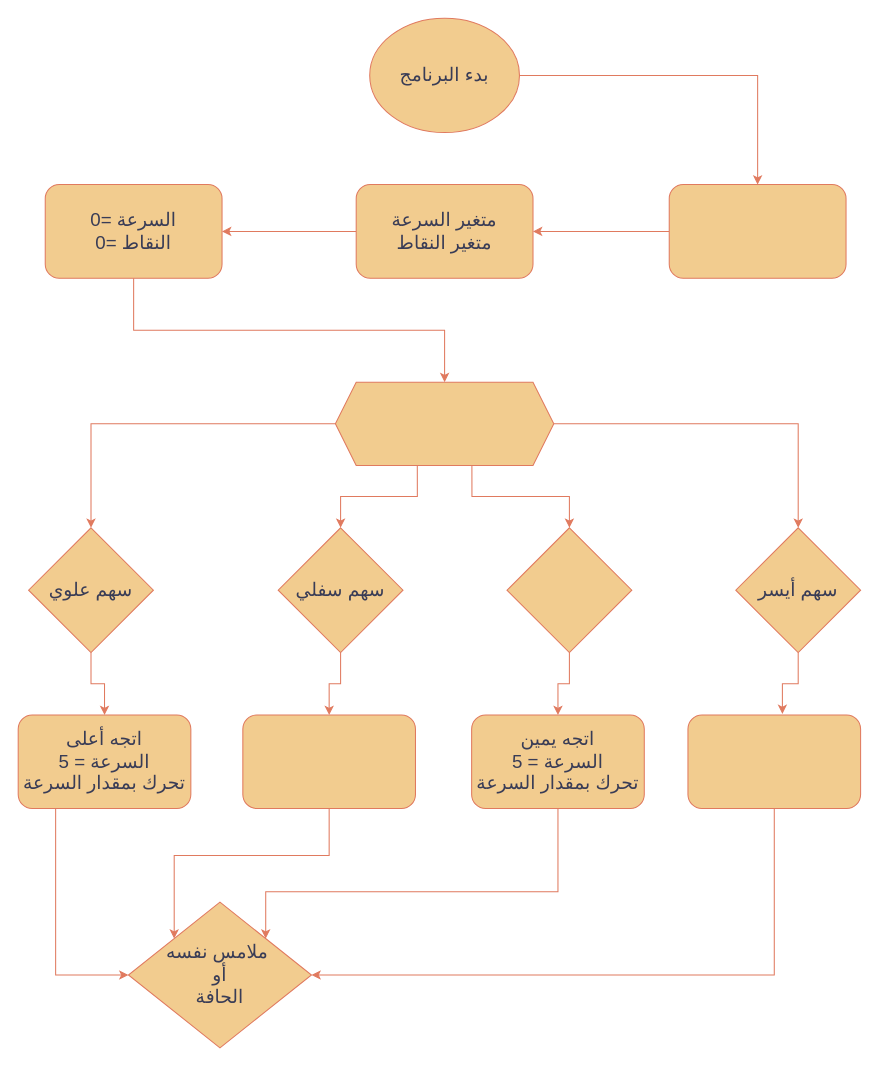
Some shapes in this 879 by 1066 pixel diagram are drawn without their labels. The shapes that lost their labels are listed below. From the top down, each one's centre as x and y in pixels, then its label:
the point at 757,231: رسم رأس الافعى جسم الافعى شكل النقاط
the point at 444,423: كرر باستمرار
the point at 569,590: سهم أيمن
the point at 328,761: اتجه أسفل السرعة = 5 تحرك بمقدار السرعة
the point at 774,761: اتجه يسار السرعة = 5 تحرك بمقدار السرعة
